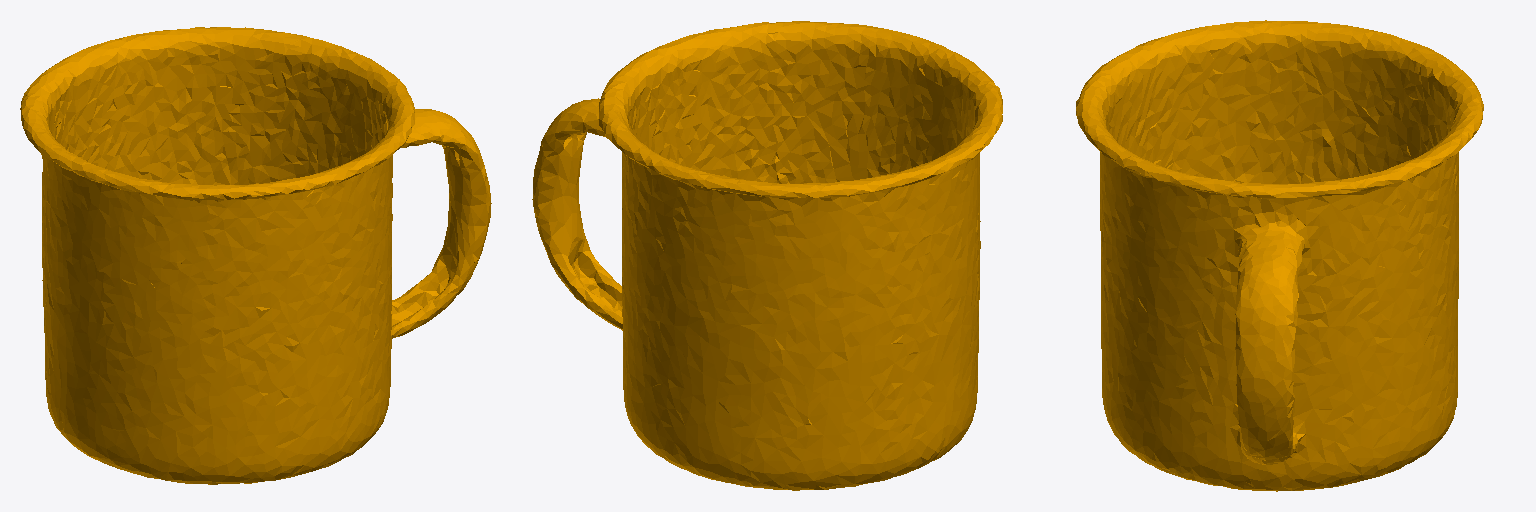
The robot description file, URDF, robot "mug":
<?xml version="1.0" ?>
<robot name="mug">
  <link name="_name">
  
    <visual>
      <origin rpy="0 0 0" xyz="0 0 0" />
      <geometry>
        <mesh filename="textured.obj" scale="1 1 1" />
      </geometry>
    </visual>
    
    <collision>
      <origin rpy="0 0 0" xyz="0 0 0" />
      <geometry>
        <mesh filename="textured_vhacd.obj" scale="1 1 1" />
      </geometry>
    </collision>
    
    <inertial>
      <origin rpy="0 0 0" xyz="0.0 0.0 0.0" />
      <mass value="0.118" />
      <inertia ixx="1.0" ixy="0.0" ixz="0.0" iyy="1.0" iyz="0.0" izz="1.0" />
    </inertial>
    
  </link>
</robot>

--- Render facts (derived) ---
3 views of the same robot in one strip: view 1: azimuth 30°, elevation 25°; view 2: azimuth 150°, elevation 25°; view 3: azimuth 270°, elevation 25° (orthographic).
Robot: mug — 1 links, 0 joints (none); root link _name; default pose: every joint at zero.
Links seen in each view (by area): view 1: _name; view 2: _name; view 3: _name.
Boxes of the visible links, x1=… form: _name: x1=20, y1=27, x2=491, y2=484; _name: x1=532, y1=21, x2=1002, y2=490; _name: x1=1076, y1=20, x2=1483, y2=491.
Size in the robot's own frame: 0.117 by 0.0931 by 0.0813 metres.
Meshes: 1 distinct files referenced, 1 mesh visuals loaded (1 OBJ).
